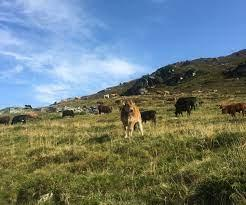cow: (118, 99, 140, 141), (221, 104, 246, 118), (139, 110, 157, 125), (11, 115, 26, 126), (60, 110, 76, 118)
